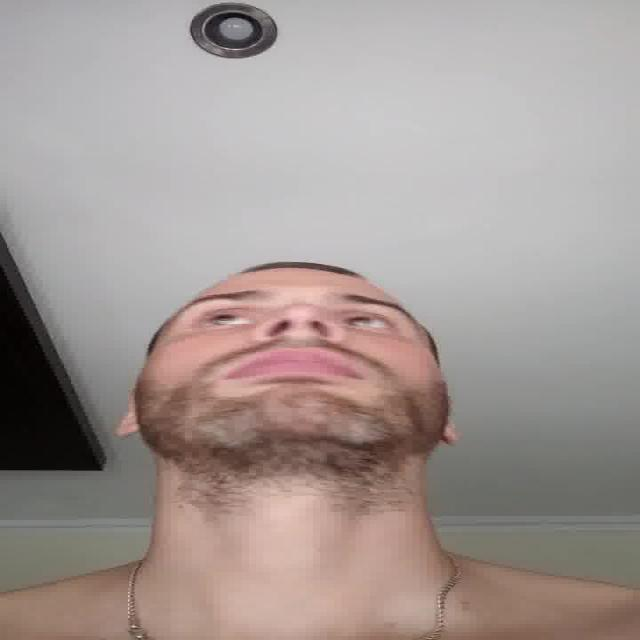earlobe: (434, 424, 464, 448), (112, 416, 142, 438)
eye: (200, 311, 262, 328), (344, 314, 397, 330)
nose: (258, 328, 346, 354)
